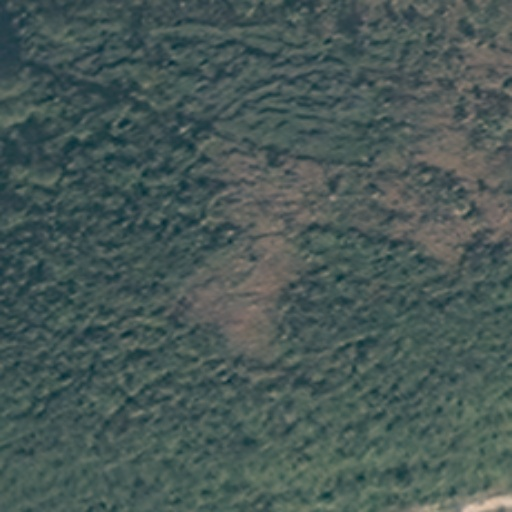landslide: (189, 143, 323, 334), (388, 52, 512, 241)
